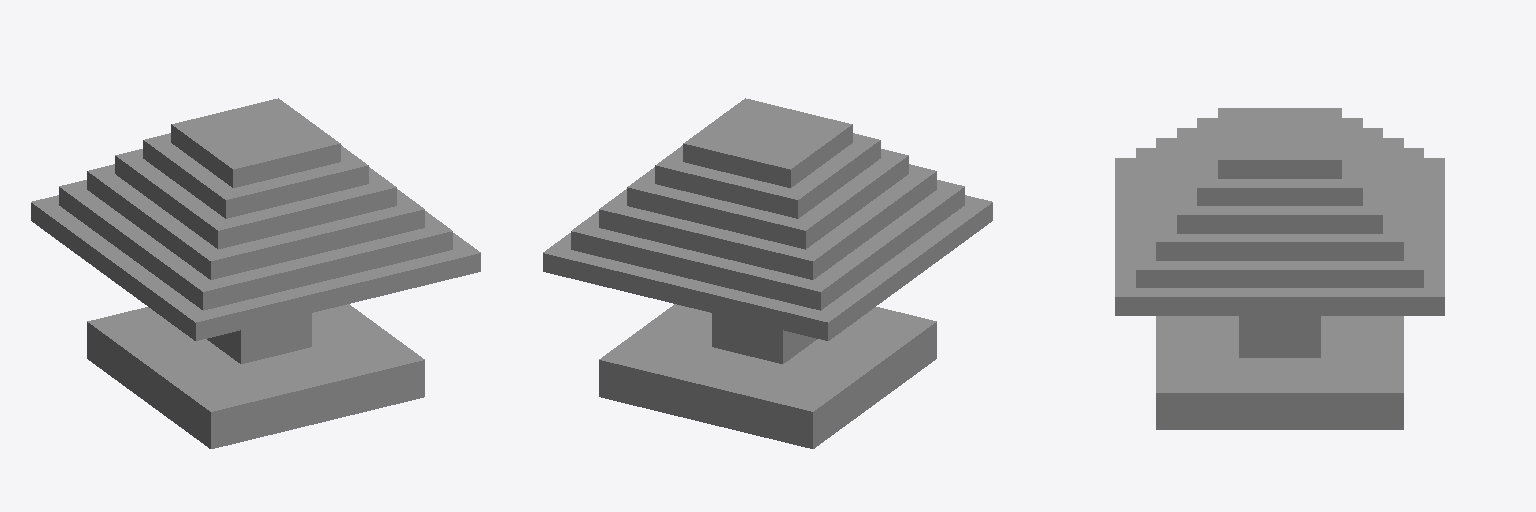
Rendered from deco_lamp.obj.
3 views of the same model, side by side, from view 1: azimuth 30°, elevation 25°; view 2: azimuth 150°, elevation 25°; view 3: azimuth 270°, elevation 25° (orthographic).
Parts seen in each view (by area): view 1: nodebox17, nodebox11, nodebox12, nodebox13, nodebox16, nodebox14, nodebox15, nodebox10; view 2: nodebox17, nodebox11, nodebox12, nodebox13, nodebox16, nodebox14, nodebox15, nodebox10; view 3: nodebox17, nodebox11, nodebox12, nodebox13, nodebox14, nodebox16, nodebox15, nodebox10.
Boxes of the visible parts, <box> form: nodebox17: <box>87,304,424,448</box>; nodebox11: <box>31,195,480,340</box>; nodebox12: <box>59,180,452,310</box>; nodebox13: <box>87,164,424,279</box>; nodebox16: <box>171,98,340,187</box>; nodebox14: <box>115,149,396,249</box>; nodebox15: <box>143,133,368,218</box>; nodebox10: <box>207,313,311,363</box>; nodebox17: <box>599,304,936,448</box>; nodebox11: <box>543,195,992,340</box>; nodebox12: <box>571,180,964,310</box>; nodebox13: <box>599,164,936,279</box>; nodebox16: <box>683,98,852,187</box>; nodebox14: <box>627,149,908,249</box>; nodebox15: <box>655,133,880,218</box>; nodebox10: <box>712,313,816,363</box>; nodebox17: <box>1156,316,1403,429</box>; nodebox11: <box>1115,158,1444,315</box>; nodebox12: <box>1136,148,1423,287</box>; nodebox13: <box>1156,138,1403,260</box>; nodebox14: <box>1177,128,1382,233</box>; nodebox16: <box>1218,108,1341,178</box>; nodebox15: <box>1197,118,1362,205</box>; nodebox10: <box>1239,316,1320,357</box>.
Size of the model in its own units: 1 by 0.816 by 1.